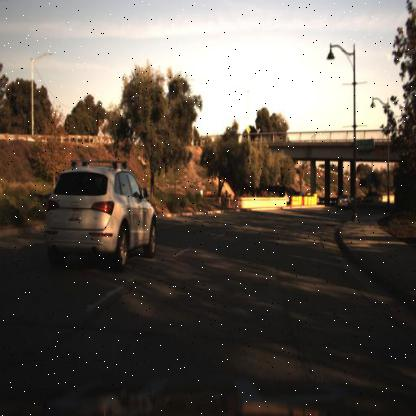car: (45, 155, 158, 272), (334, 189, 356, 211)
